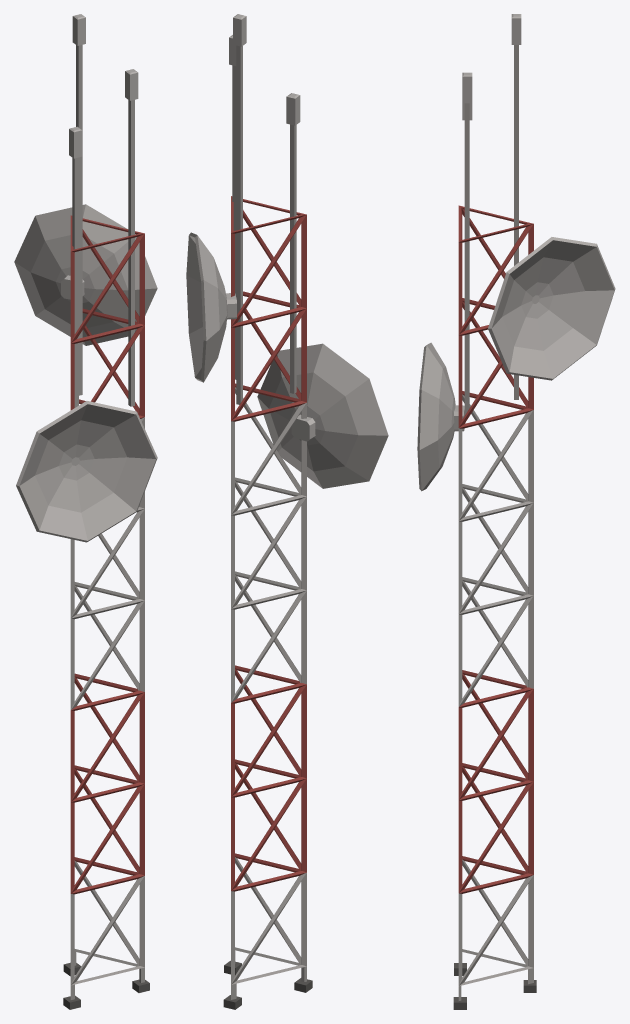
Rendered from SM_Props_Roof_Antenna_Radio_Tower.fbx.
The picture shows the model from 3 angles, left to right: view 1: azimuth 30°, elevation 25°; view 2: azimuth 150°, elevation 25°; view 3: azimuth 270°, elevation 25°; orthographic projection. The views are drawn at different scales.
Visible parts, largest first — view 1: SM_Props_Roof_Antenna_Radio_Tower; view 2: SM_Props_Roof_Antenna_Radio_Tower; view 3: SM_Props_Roof_Antenna_Radio_Tower.
Part boxes in pixels (x1,y1,x2,y2): SM_Props_Roof_Antenna_Radio_Tower: [14, 14, 157, 1009]; SM_Props_Roof_Antenna_Radio_Tower: [186, 14, 388, 1009]; SM_Props_Roof_Antenna_Radio_Tower: [417, 14, 615, 1009].
Size of the model in its own units: 241 by 1310 by 241.
